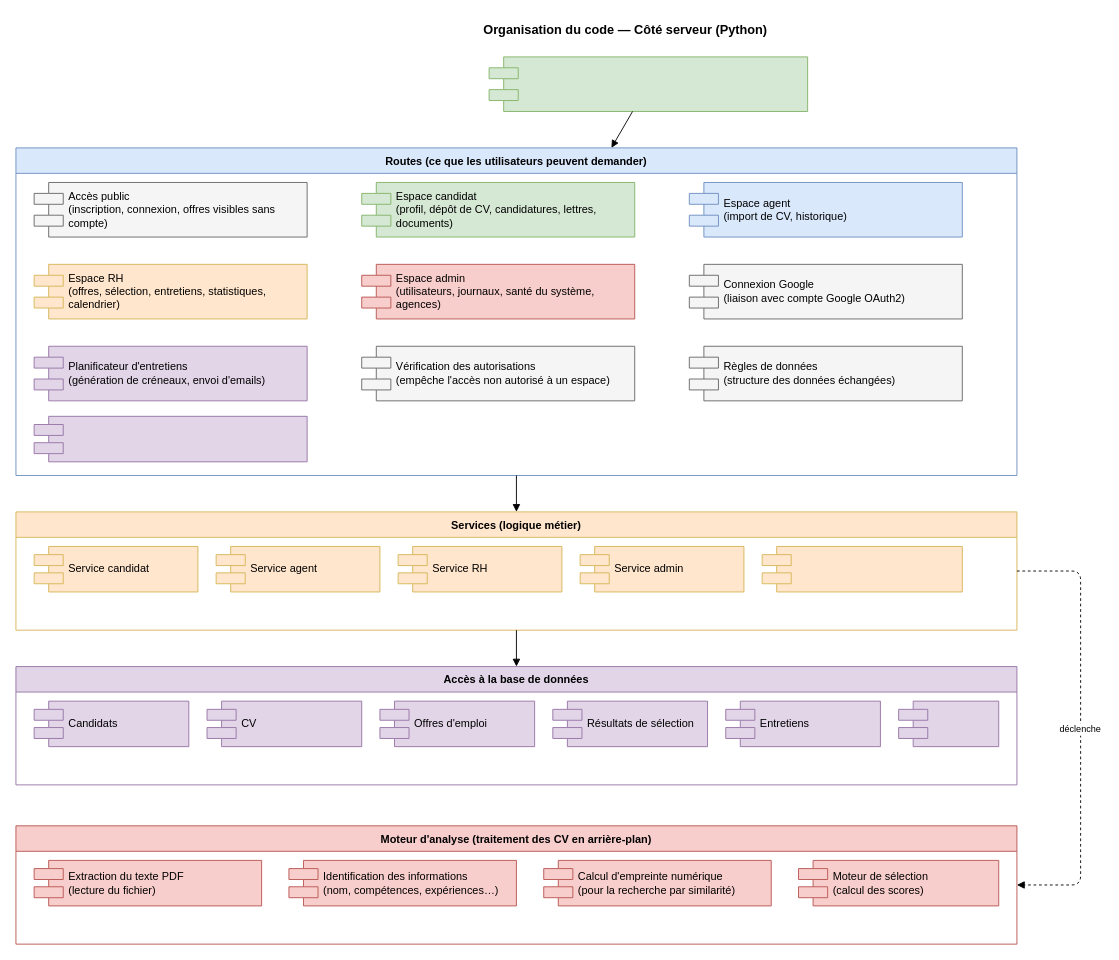
This 1119x960 diagram has some shape labels left out. Each missing label, with the centre of its shape:
Modèles de données (définit ce qui est stocké en base de données): (170,438)
Point d'entrée du serveur (démarrage, configuration générale): (648,83)
Service commun (partagé entre les espaces): (861,569)
Utilisateurs: (948,723)
